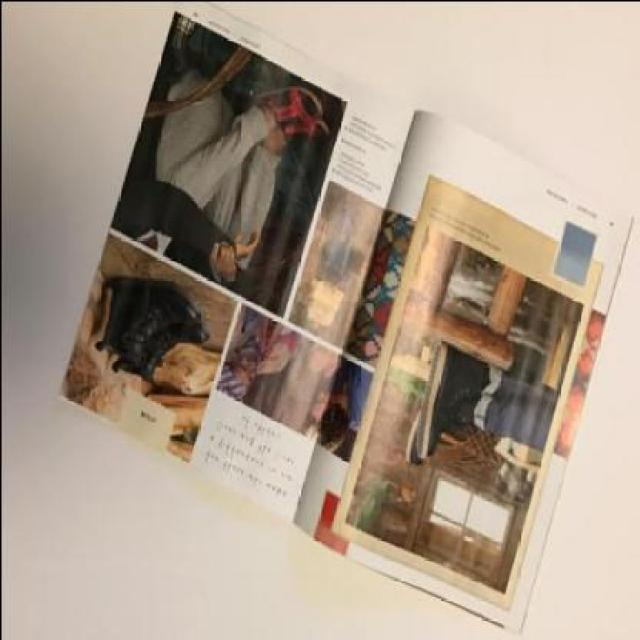PAPER: (57, 0, 632, 631), (55, 1, 412, 528), (292, 105, 632, 627)
